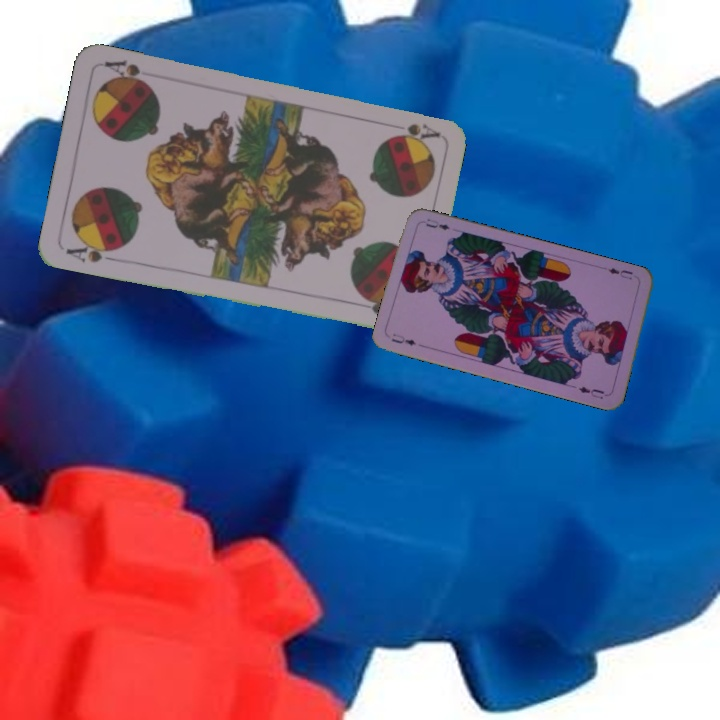EU: (387, 329, 419, 348), (604, 264, 635, 282)
SA: (62, 236, 123, 265), (391, 119, 442, 143)
